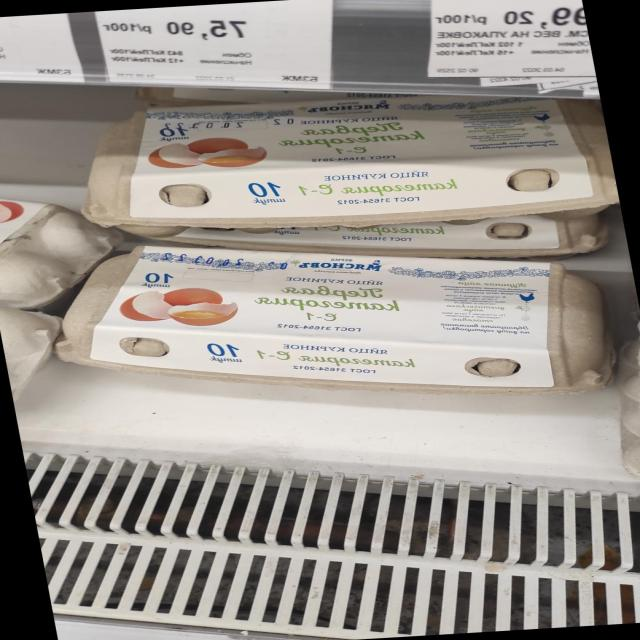organic waste: (40, 217, 632, 419), (63, 84, 621, 242)
